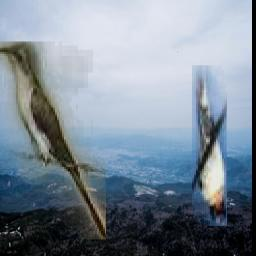Cuckoo: (0, 42, 106, 240)
Swallow: (193, 66, 228, 227)
